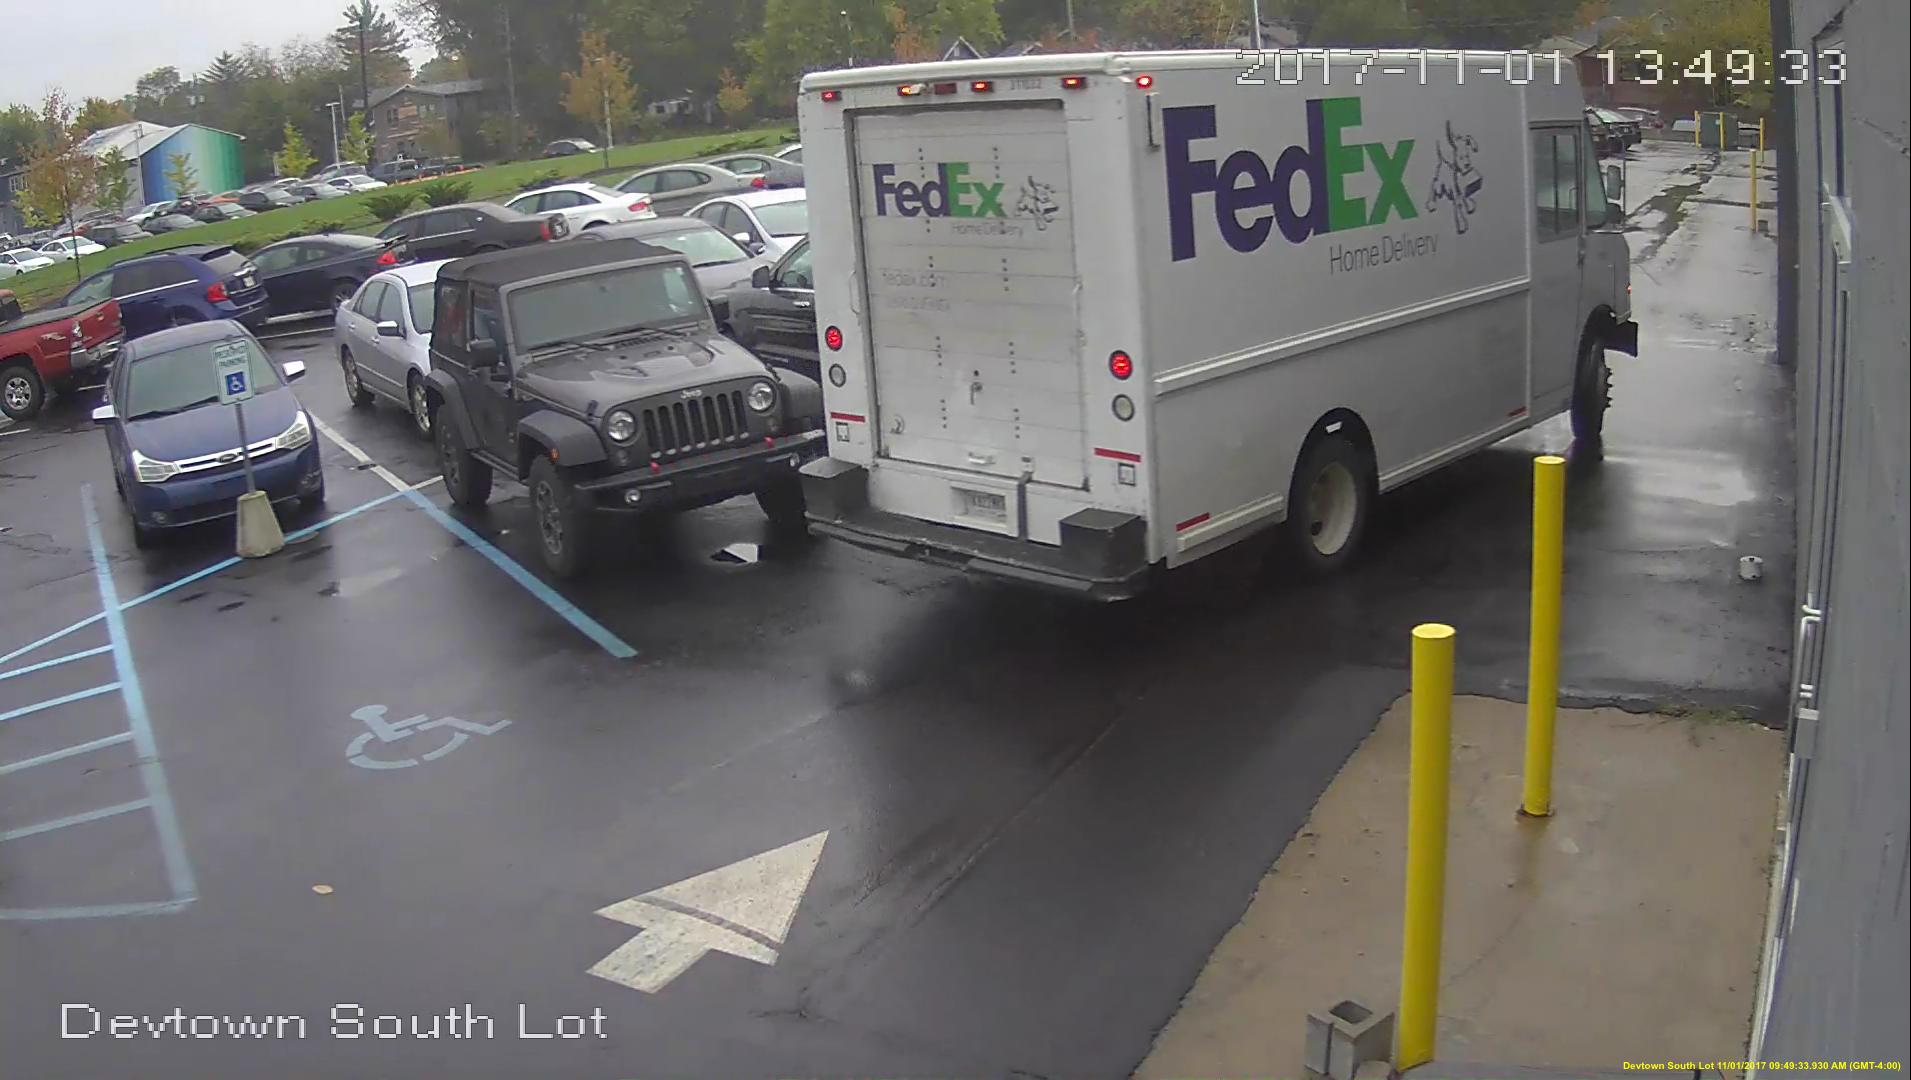fedex_truck: (798, 54, 1631, 598)
